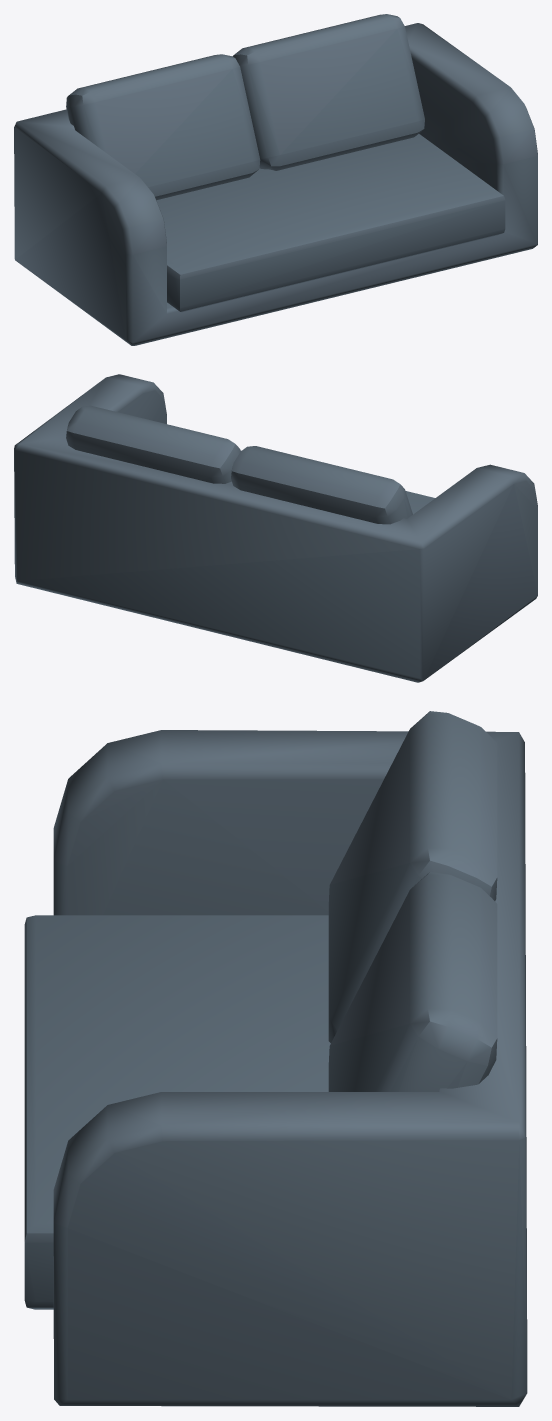
Rendered from couch.low.7d6252ff.glb.
3 views of the same model, one above another, from view 1: azimuth 30°, elevation 25°; view 2: azimuth 150°, elevation 25°; view 3: azimuth 270°, elevation 25° (orthographic). The views are drawn at different scales.
Parts seen in each view (by area): view 1: couch; view 2: couch; view 3: couch.
Part boxes in pixels (x1,y1,x2,y2): couch: [14, 14, 537, 345]; couch: [14, 374, 537, 682]; couch: [24, 711, 527, 1406].
Size of the model in its own units: 2.1 by 0.8532 by 1.11.
